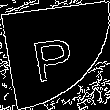P_N: (30, 27, 80, 83)
